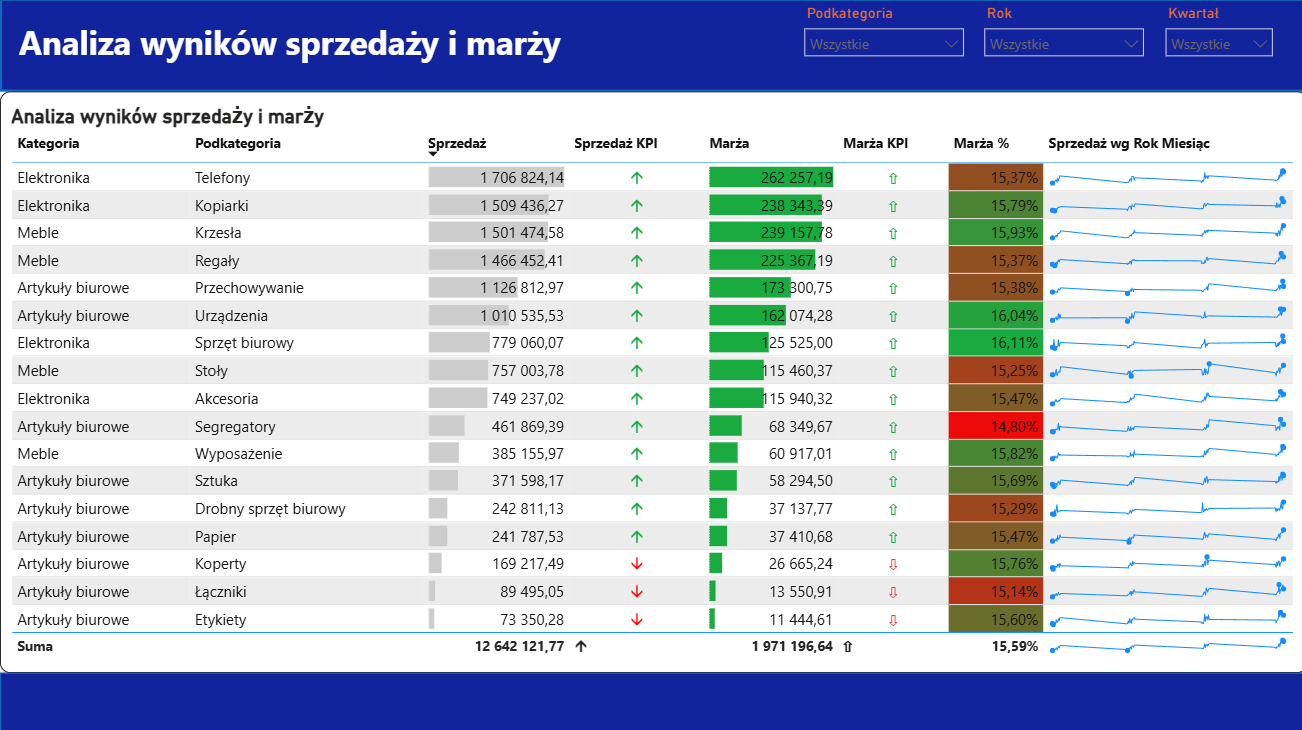

This screenshot's page, from the dashboard's own definition file:
{"tool":"powerbi","page":{"name":"Analiza wyników sprzedaży i marży","canvas":[1280,720],"ordinal":0},"visuals":[{"type":"shape","box":[0,0,1280.3,90.5],"z":0},{"type":"tableEx","title":"Analiza wyników sprzedaży i marży","fields":{"Values":["Produkt.Kategoria","Produkt.Podkategoria","_Miary.Sprzedaż","_Miary.Sprzedaż KPI","_Miary.Marża","_Miary.Marża KPI","_Miary.Marża %","SparklineData(_Miary.Sprzedaż_[Kalendarz.Rok Miesiąc])"]},"box":[0,90.4,1280,569],"z":1},{"type":"shape","box":[0,659.5,1280,61.2],"z":2},{"type":"textbox","box":[13.9,15.3,541.2,61.2],"z":3},{"type":"slicer","fields":{"Values":["Kalendarz.Rok"]},"box":[953,0,176.7,75.1],"z":4},{"type":"slicer","fields":{"Values":["Kalendarz.Kwartał"]},"box":[1129.7,0,125.2,76.5],"z":5},{"type":"slicer","fields":{"Values":["Produkt.Podkategoria"]},"box":[776.3,0,176.7,75.1],"z":6}]}

Visuals, with their boxes in screenshot pixels (x1, y1, x2, y2), scaled from the page's 1280x720 canvas onto the 1302x730 screenshot:
shape: 0, 0, 1301, 92
"Analiza wyników sprzedaży i marży" tableEx: 0, 92, 1301, 669
shape: 0, 669, 1301, 729
textbox: 14, 16, 565, 78
slicer - Kalendarz.Rok: 969, 0, 1149, 76
slicer - Kalendarz.Kwartał: 1149, 0, 1276, 78
slicer - Produkt.Podkategoria: 790, 0, 969, 76
